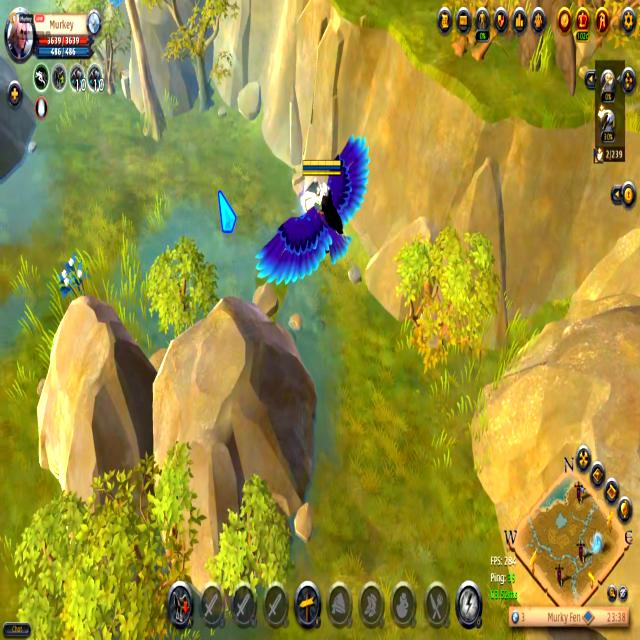hide: (54, 253, 93, 306)
red: (252, 130, 374, 292)
